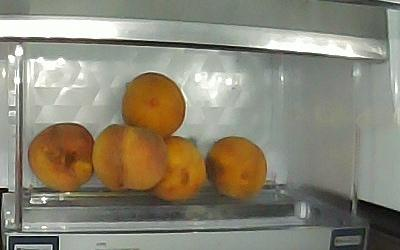peach: (93, 124, 167, 193), (28, 123, 94, 191), (123, 72, 186, 137), (206, 136, 267, 200), (147, 137, 207, 202)
